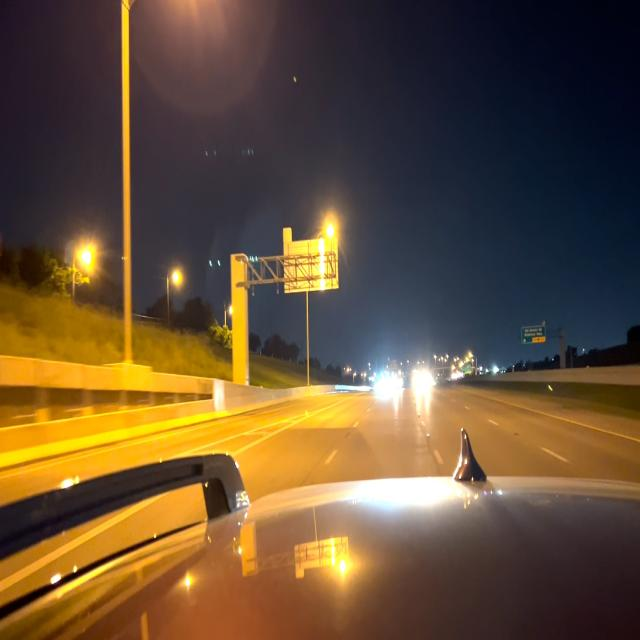back-of-sign: (282, 239, 338, 290), (282, 226, 292, 241)
